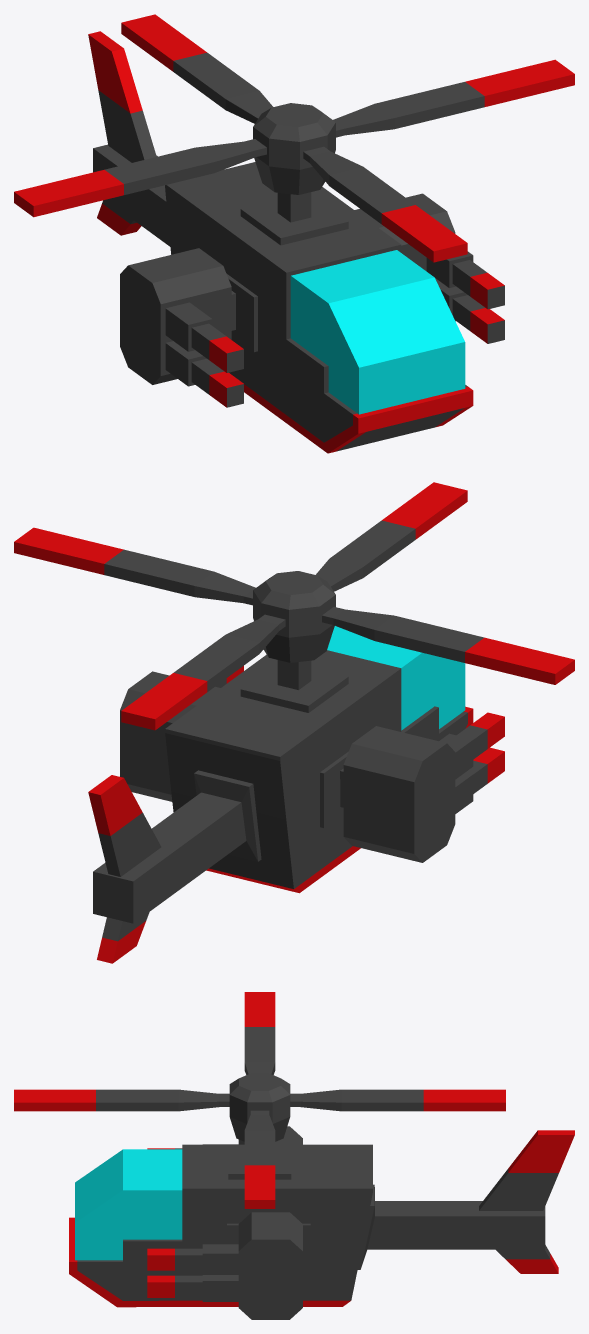
File: HelicopterMediumGun.fbx
3 renders of one model, top to bottom at view 1: azimuth 30°, elevation 25°; view 2: azimuth 150°, elevation 25°; view 3: azimuth 270°, elevation 25°, orthographic. The views are drawn at different scales.
Visible parts, largest first — view 1: Body, Rotor, Turret_GunMedium, Tail; view 2: Body, Rotor, Turret_GunMedium, Tail; view 3: Body, Rotor, Tail, Turret_GunMedium.
Boxes of the visible parts, x1=… form: Body: x1=165, y1=162, x2=473, y2=453; Rotor: x1=14, y1=14, x2=574, y2=262; Turret_GunMedium: x1=120, y1=193, x2=504, y2=407; Tail: x1=88, y1=31, x2=170, y2=246; Body: x1=165, y1=626, x2=473, y2=893; Rotor: x1=14, y1=482, x2=574, y2=730; Turret_GunMedium: x1=120, y1=666, x2=504, y2=862; Tail: x1=88, y1=770, x2=261, y2=963; Body: x1=69, y1=1144, x2=372, y2=1307; Rotor: x1=14, y1=992, x2=505, y2=1208; Tail: x1=357, y1=1130, x2=574, y2=1273; Turret_GunMedium: x1=147, y1=1126, x2=302, y2=1319.
Bounding box in the file's own units: 5.9 × 6.73 × 2.69.
